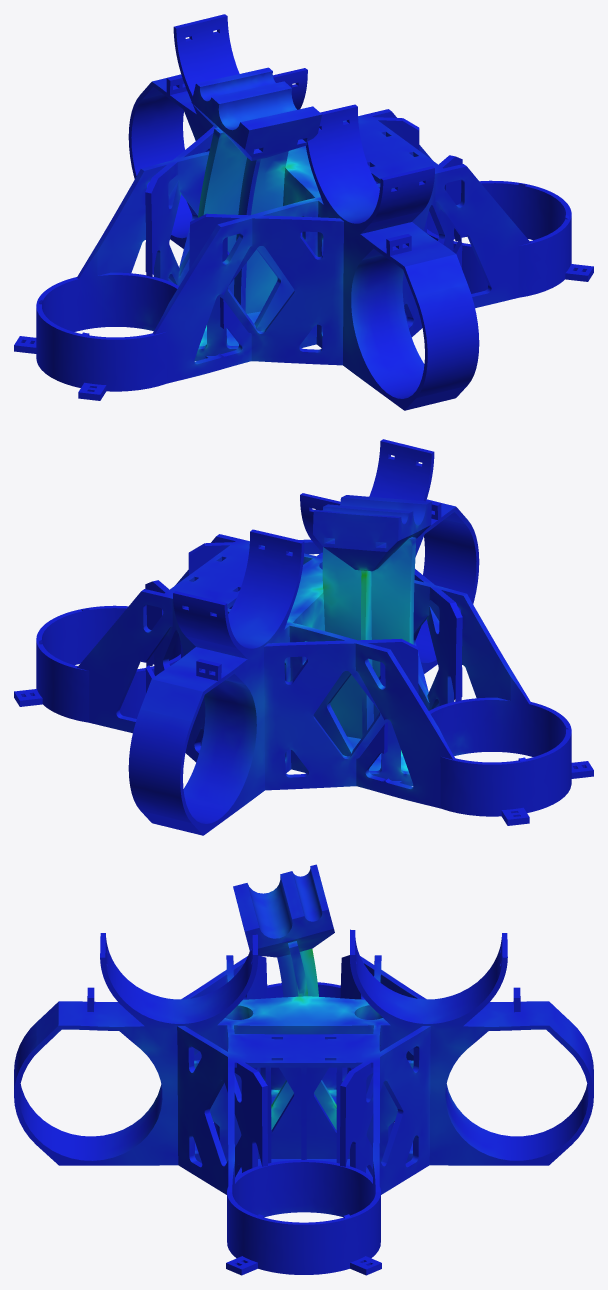
Rendered from result.glb.
3 views of the same model, one above another, from view 1: azimuth 30°, elevation 25°; view 2: azimuth 150°, elevation 25°; view 3: azimuth 270°, elevation 25° (orthographic). The views are drawn at different scales.
Parts seen in each view (by area): view 1: 57e0a685-ddd5-5b07-8110-d83b3296390d von Mises; view 2: 57e0a685-ddd5-5b07-8110-d83b3296390d von Mises; view 3: 57e0a685-ddd5-5b07-8110-d83b3296390d von Mises.
Part boxes in pixels (x1=…): 57e0a685-ddd5-5b07-8110-d83b3296390d von Mises: x1=14, y1=14, x2=593, y2=410; 57e0a685-ddd5-5b07-8110-d83b3296390d von Mises: x1=14, y1=439, x2=593, y2=835; 57e0a685-ddd5-5b07-8110-d83b3296390d von Mises: x1=14, y1=864, x2=593, y2=1275.
Size of the model in its own units: 0.2603 by 0.1199 by 0.2614.
1 material, 1 textured.
